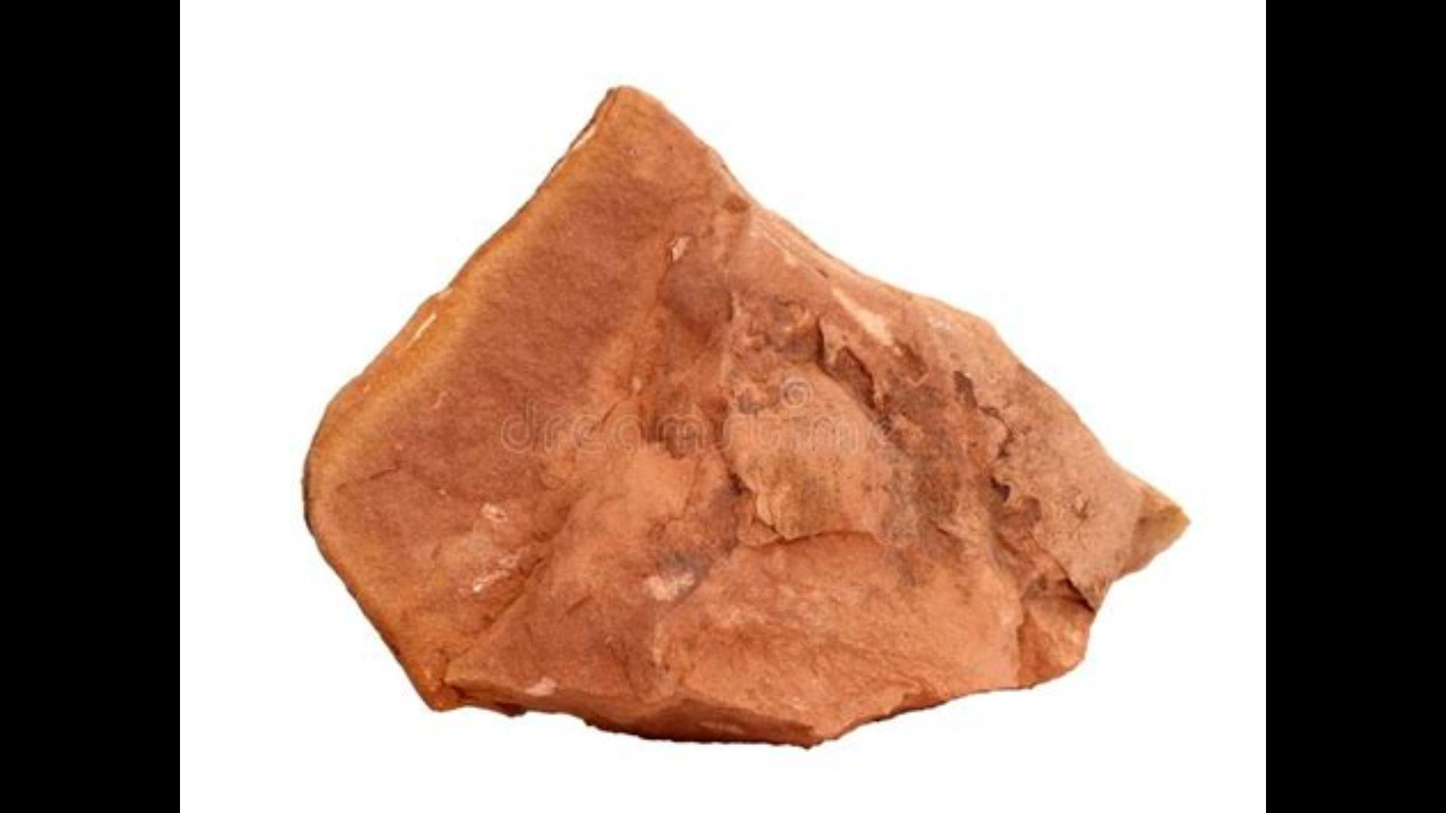rock: (306, 89, 1184, 742)
